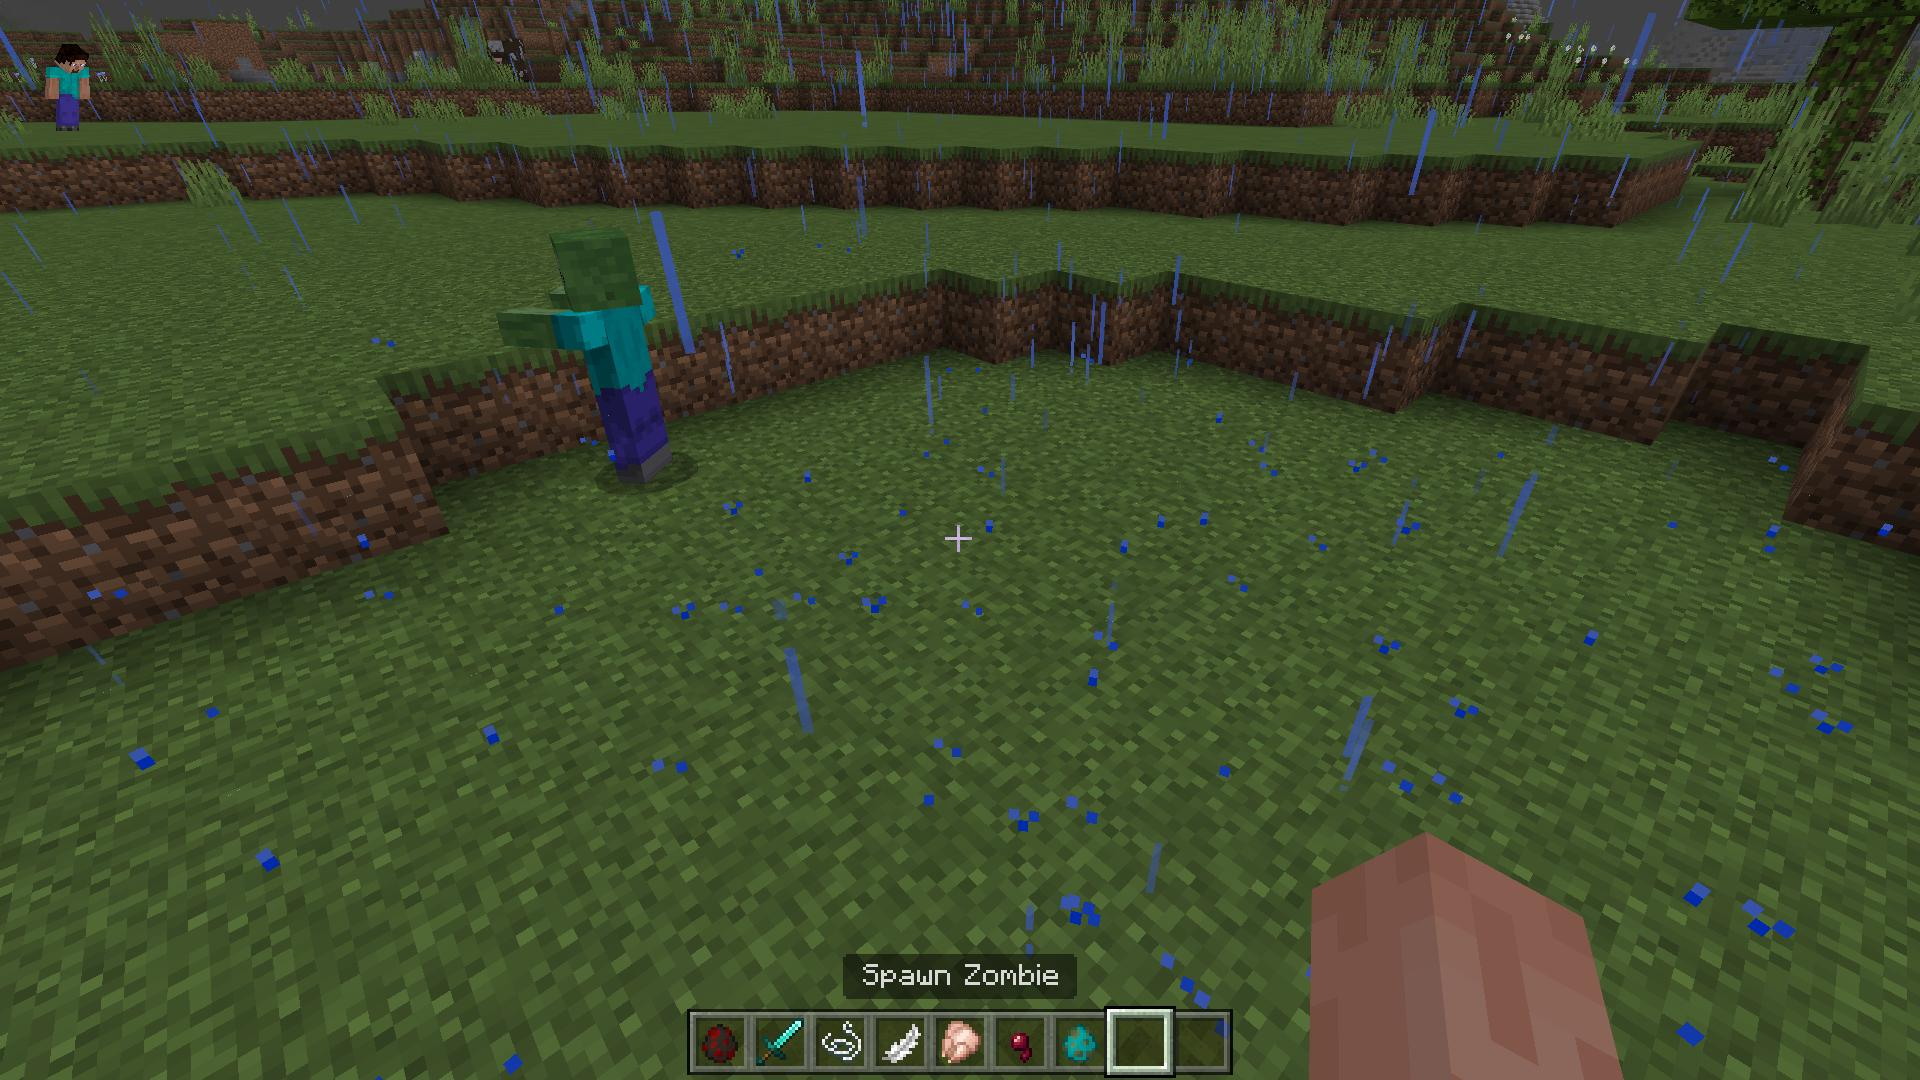zombie: (504, 228, 683, 487)
